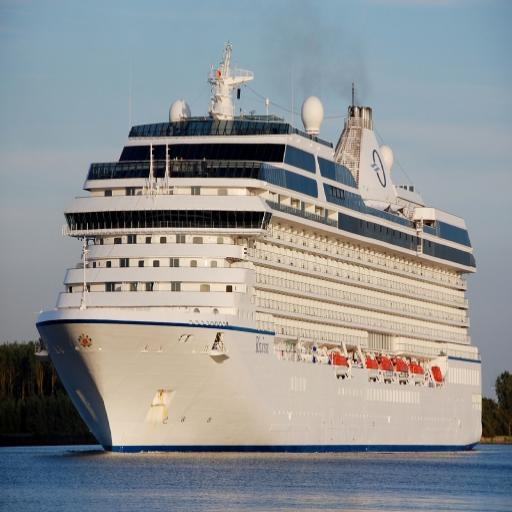cruises: (33, 40, 488, 456)
